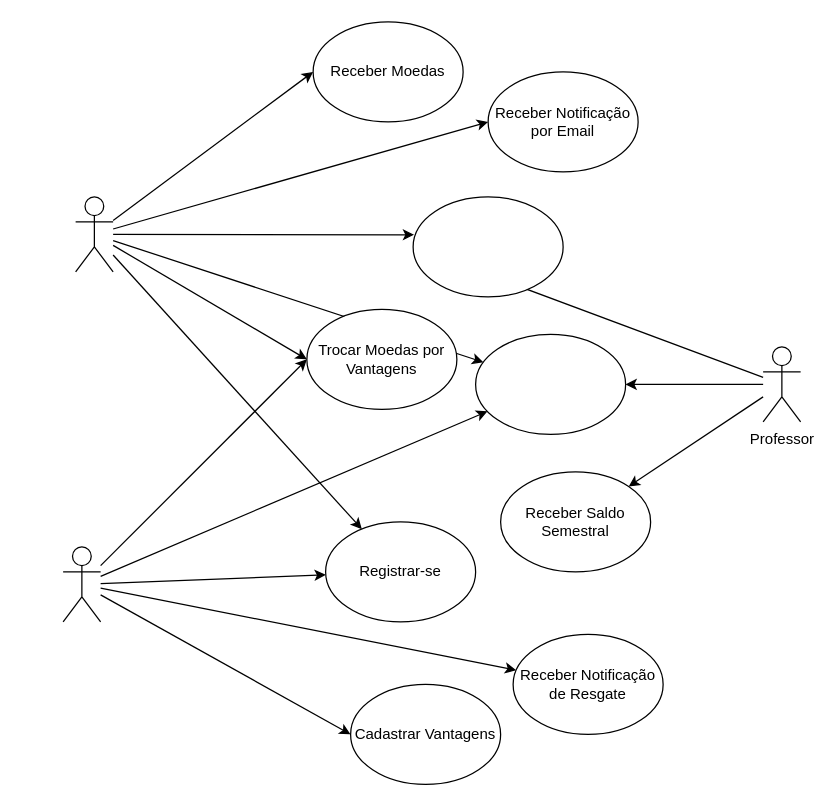
The diagram is 835 pixels wide and 806 high, and some of its shapes have lost their labels. The shapes that lost their labels are listed below. From the top down, each one's centre as x and y in pixels, then its label:
At (93,234): "Estudante".
At (487,246): "Consultar Extrato".
At (550,383): "Autenticar-se".
At (81,584): "Empresa Parceira".
